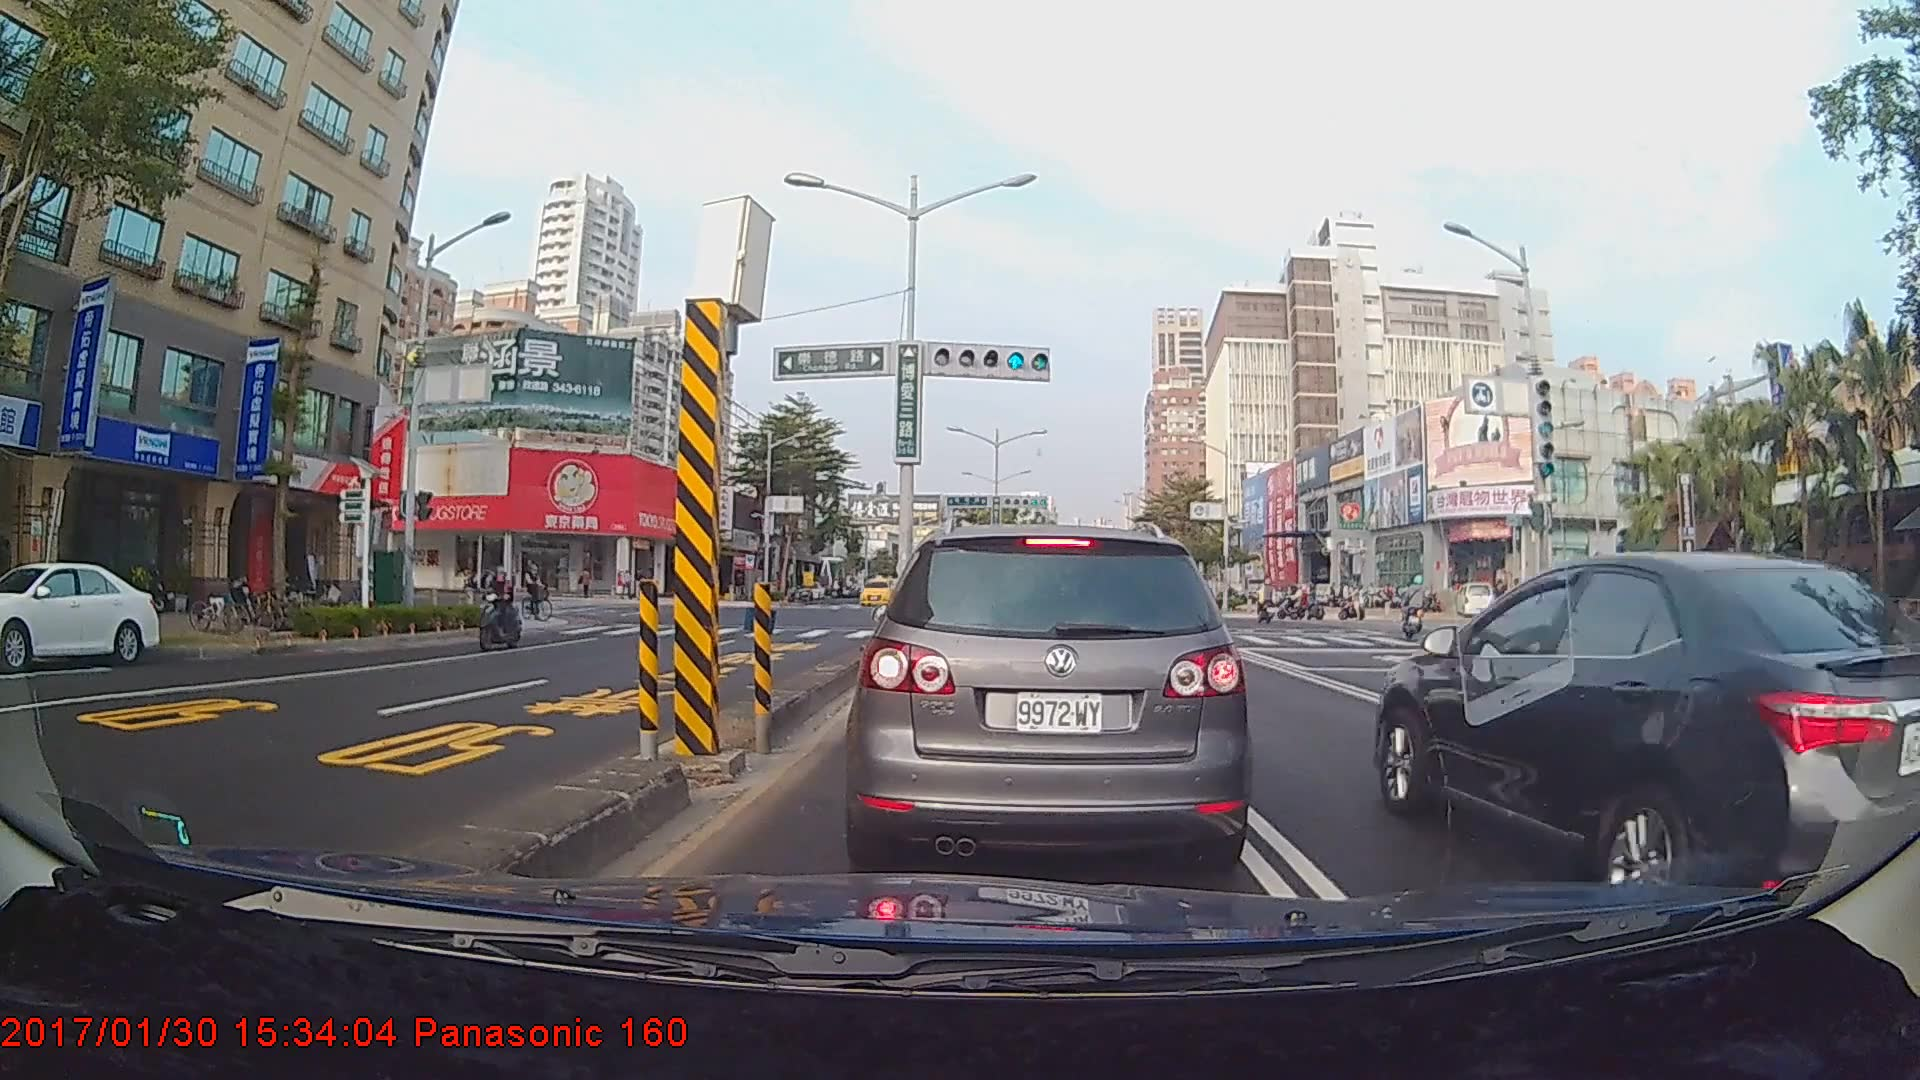rider: (472, 564, 528, 655), (1395, 573, 1436, 642), (518, 559, 561, 622), (1248, 574, 1276, 631)
vehicle: (1369, 541, 1920, 898), (856, 520, 1243, 872), (0, 561, 162, 671), (858, 577, 895, 606)
